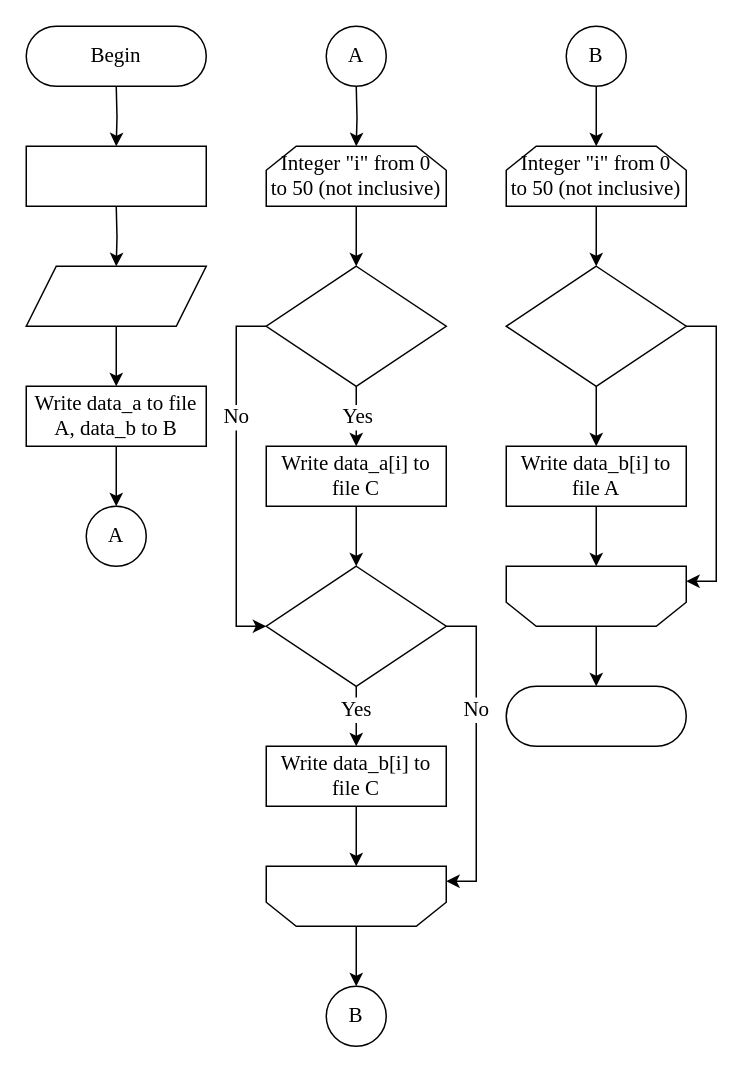
Some shapes in this 755 by 1073 pixel diagram are drawn without their labels. Here are the shapes that lost their labels. From the top down, the centre of each, then its label:
At [115,175]: "Create or clear file A, B and C".
At [115,295]: "Input data_a and data_b".
At [355,325]: "data_a[i] is vowel".
At [595,325]: "data_b[i] is A, B, C, D, E or F".
At [355,625]: "data_b[i] is vowel".
At [595,715]: "End".
